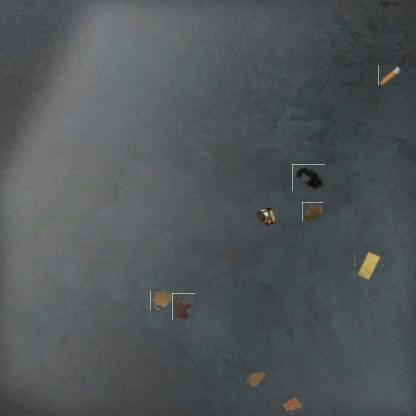dirty: (354, 250, 384, 280), (294, 163, 323, 192), (378, 64, 403, 86), (254, 204, 276, 228), (246, 366, 267, 388), (302, 201, 323, 222), (281, 394, 301, 414)
liquid: (172, 293, 195, 320), (151, 290, 173, 311)
